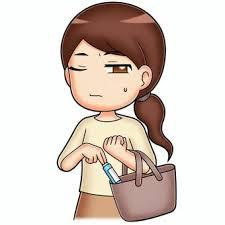shoplifting: (17, 129, 225, 225)
